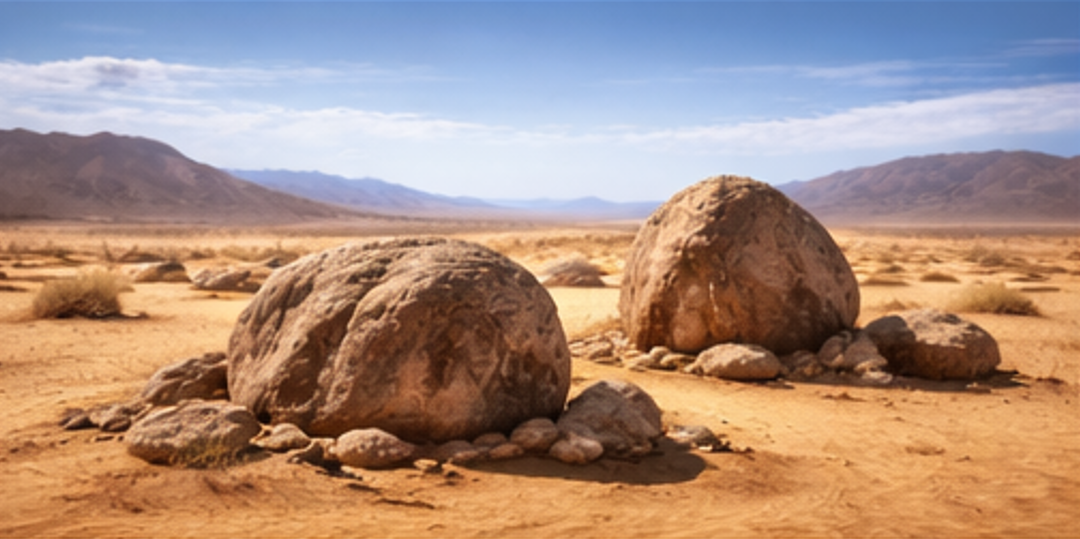rocks: (227, 238, 568, 442), (619, 175, 857, 353), (862, 308, 999, 378), (124, 400, 259, 465), (555, 380, 661, 457), (140, 351, 226, 404), (685, 342, 781, 378), (330, 427, 416, 467), (540, 255, 605, 285), (190, 268, 258, 291), (128, 260, 190, 281), (551, 442, 558, 455), (556, 455, 561, 459), (558, 446, 560, 450), (566, 459, 568, 461)
